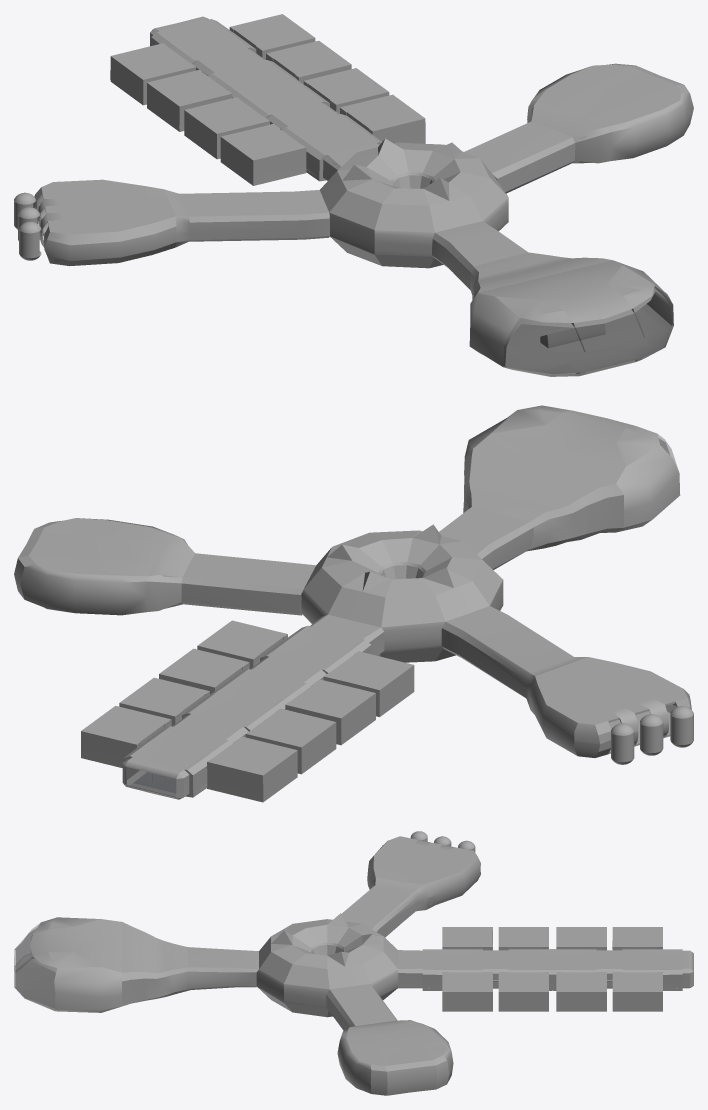
Rendered from SpaceshipV3.2.fbx.
3 views of the same model, one above another, from view 1: azimuth 30°, elevation 25°; view 2: azimuth 150°, elevation 25°; view 3: azimuth 270°, elevation 25° (orthographic). The views are drawn at different scales.
Visible parts, largest first — view 1: polySurface412, pCylinder46; view 2: polySurface412, pCylinder45, pCylinder44, pCylinder46; view 3: polySurface412.
Part boxes in pixels (x1=…): polySurface412: x1=34, y1=14, x2=693, y2=376; pCylinder46: x1=19, y1=221, x2=41, y2=260; polySurface412: x1=14, y1=405, x2=691, y2=802; pCylinder45: x1=640, y1=714, x2=663, y2=755; pCylinder44: x1=611, y1=723, x2=634, y2=764; pCylinder46: x1=670, y1=706, x2=693, y2=747; polySurface412: x1=14, y1=836, x2=693, y2=1095.
Size of the model in its own units: 28.39 by 3.53 by 33.52.
Materials: 7 (1 with a texture image).
